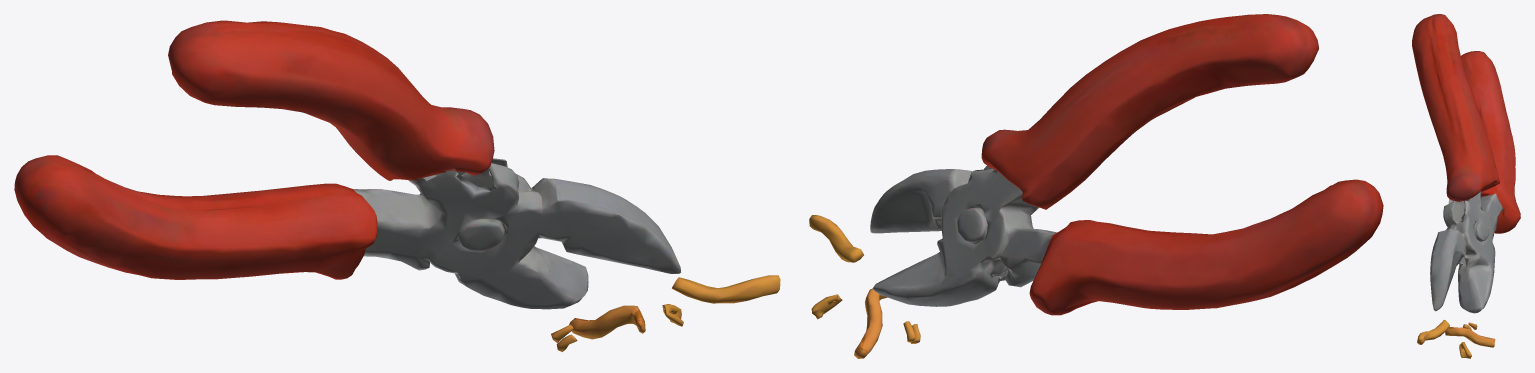
The model's file is pliers.glb.
The picture shows the model from 3 angles, left to right: view 1: azimuth 30°, elevation 25°; view 2: azimuth 150°, elevation 25°; view 3: azimuth 270°, elevation 25°; orthographic projection. The views are drawn at different scales.
Parts seen in each view (by area): view 1: geometry_0; view 2: geometry_0; view 3: geometry_0.
Boxes of the visible parts, bbox=[...] form: geometry_0: bbox=[14, 20, 780, 351]; geometry_0: bbox=[809, 14, 1383, 358]; geometry_0: bbox=[1412, 14, 1520, 358].
Bounding box in the file's own units: 0.9462 × 0.5822 × 0.253.
Materials: 1 (1 with a texture image).
